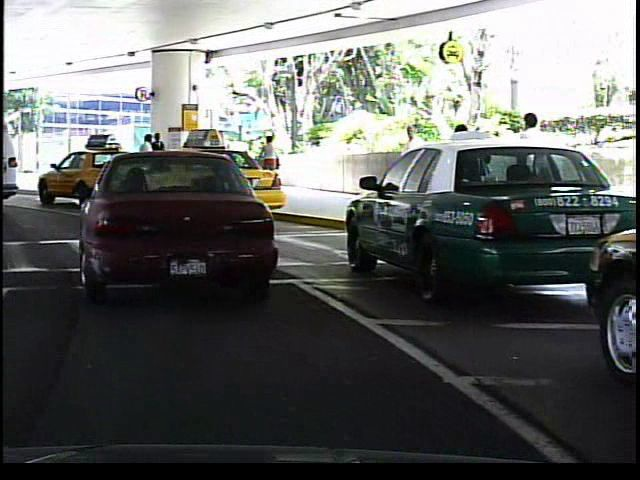person: (441, 113, 494, 228), (512, 107, 556, 231), (396, 119, 431, 207), (259, 133, 282, 192), (136, 132, 157, 188), (150, 129, 169, 188)
